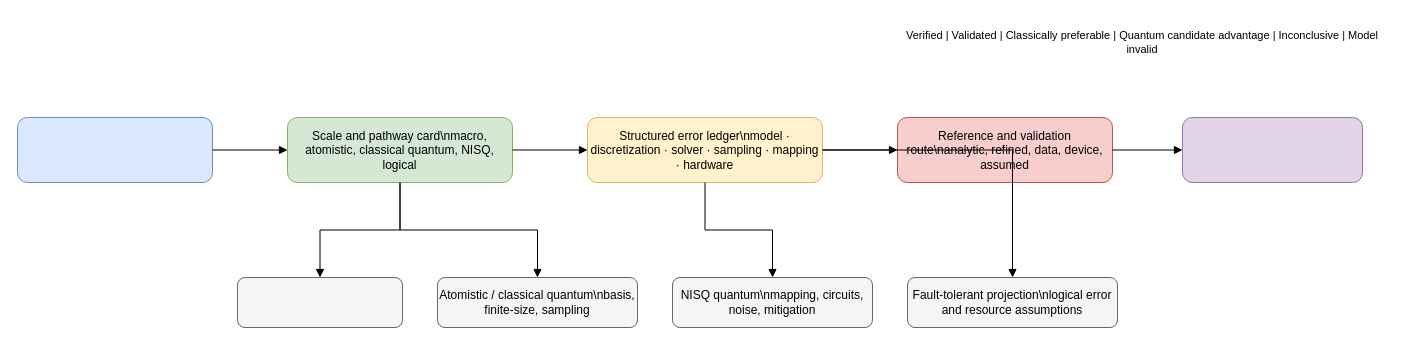
This 1410x345 diagram has some shape labels left out. Here are the shapes that lost their labels. From the top down, the box of each, then its label:
(16, 116, 212, 182): Declared quantity of interest\nunits, tolerance, physical regime
(1182, 116, 1362, 182): Conditional credibility status
(236, 276, 402, 328): Macro PDE\nconservation, mesh, closure
